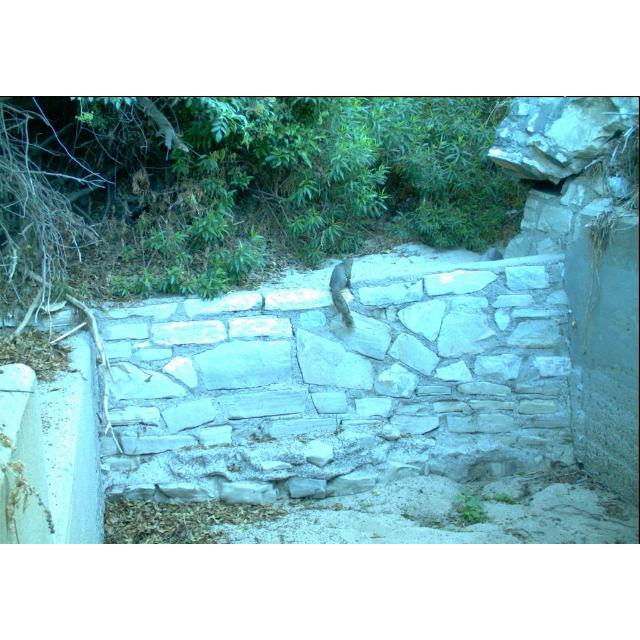animals: (327, 248, 357, 332)
